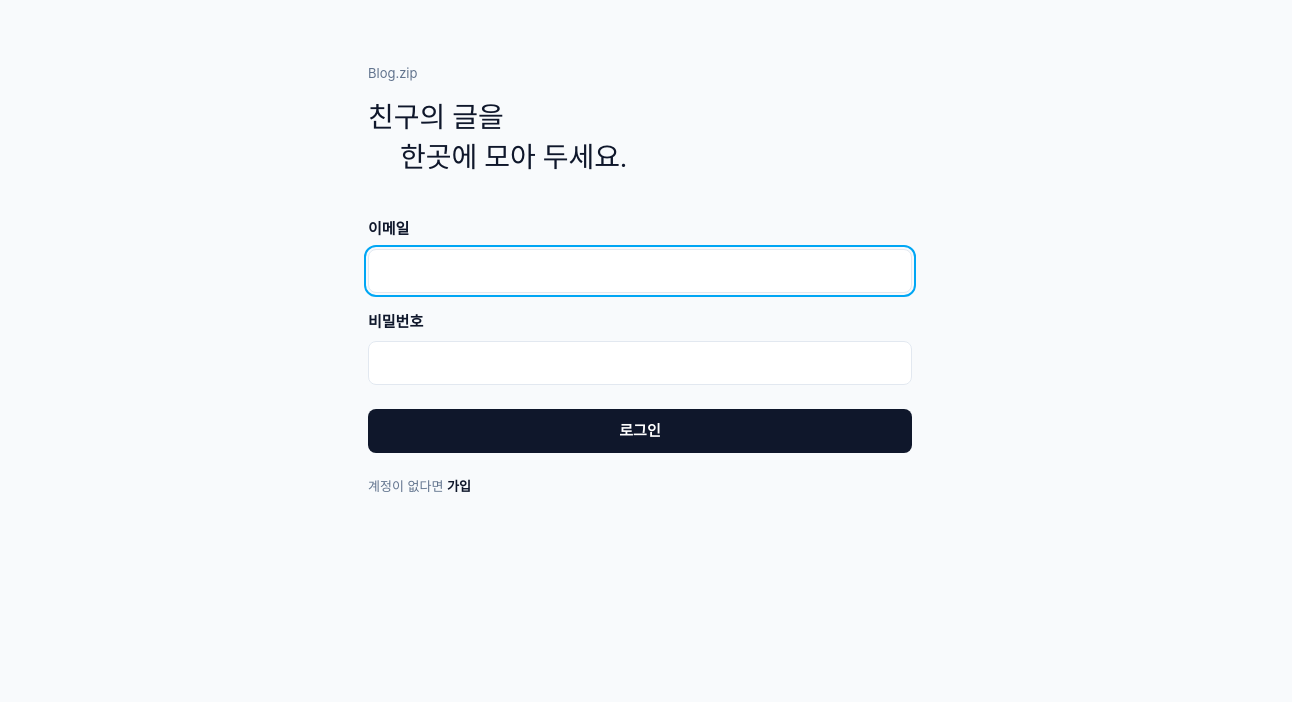
Test: 로그인 › 성공하면 accessToken을 메모리에 두고 홈으로 간다
Type "user@example.com" into the field labelled "이메일" at (640, 271), box top-left (368, 249), bottom-right (912, 293)
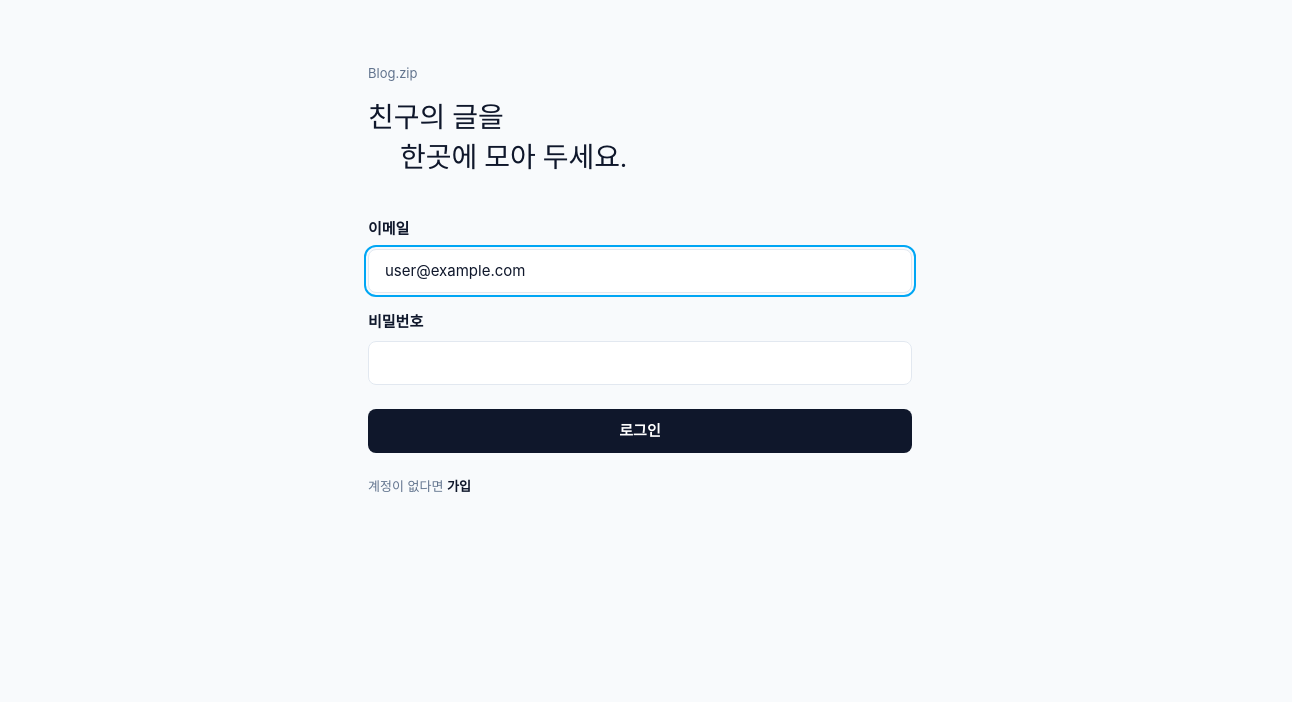
Type "password1234" into the password field labelled "비밀번호" at (640, 363), box top-left (368, 341), bottom-right (912, 385)
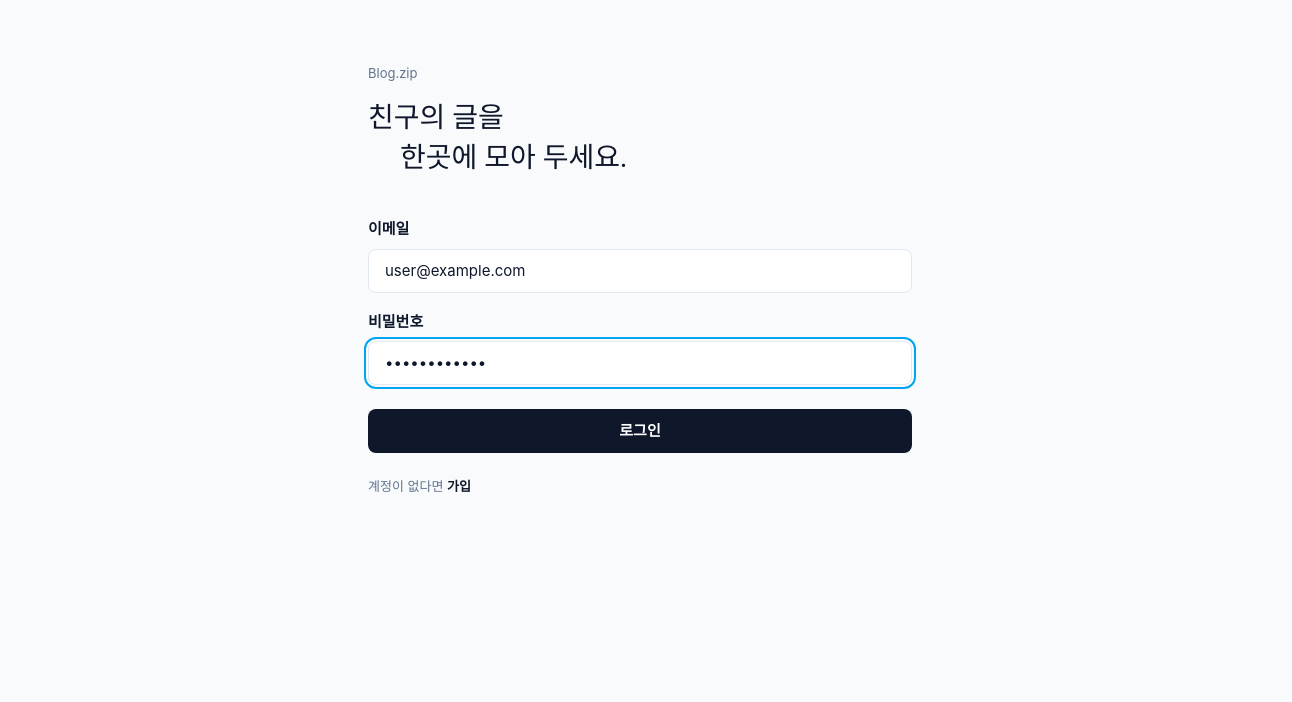
Click the button "로그인" at (640, 431), box top-left (368, 409), bottom-right (912, 453)
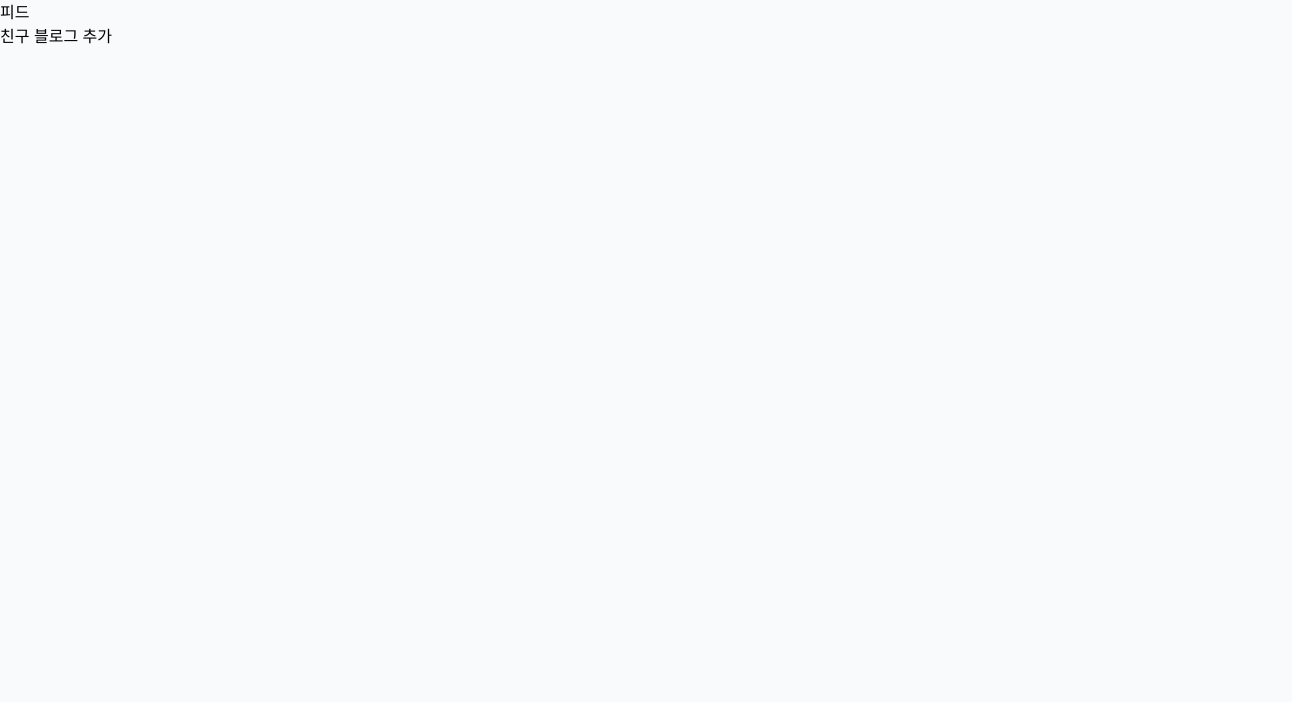
Result: the heading "피드" is shown at top-left (0, 2), bottom-right (30, 22)
